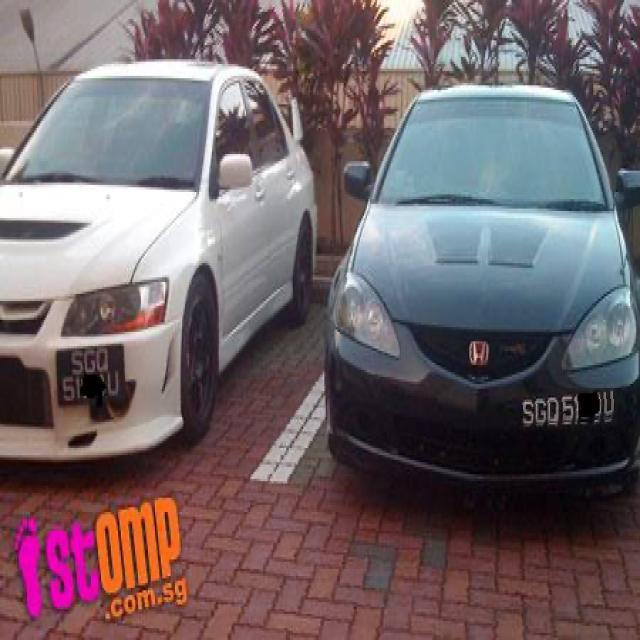licence: (510, 388, 622, 426)
